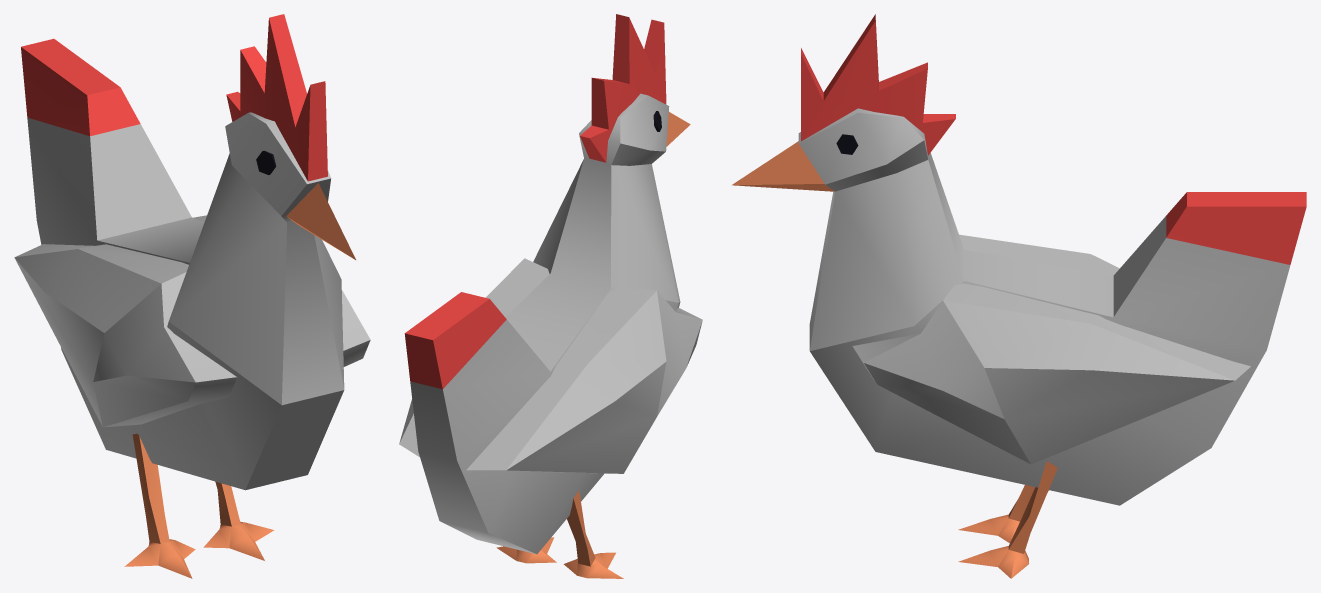
File: Chicken.fbx
3 renders of one model, left to right at view 1: azimuth 30°, elevation 25°; view 2: azimuth 150°, elevation 25°; view 3: azimuth 270°, elevation 25°, orthographic. The views are drawn at different scales.
Visible parts, largest first — view 1: Chicken; view 2: Chicken; view 3: Chicken.
Part boxes in pixels (x1=…): Chicken: x1=14, y1=14, x2=370, y2=578; Chicken: x1=399, y1=14, x2=702, y2=578; Chicken: x1=732, y1=14, x2=1306, y2=578.
Bounding box in the file's own units: 10.41 × 26.13 × 25.74.
